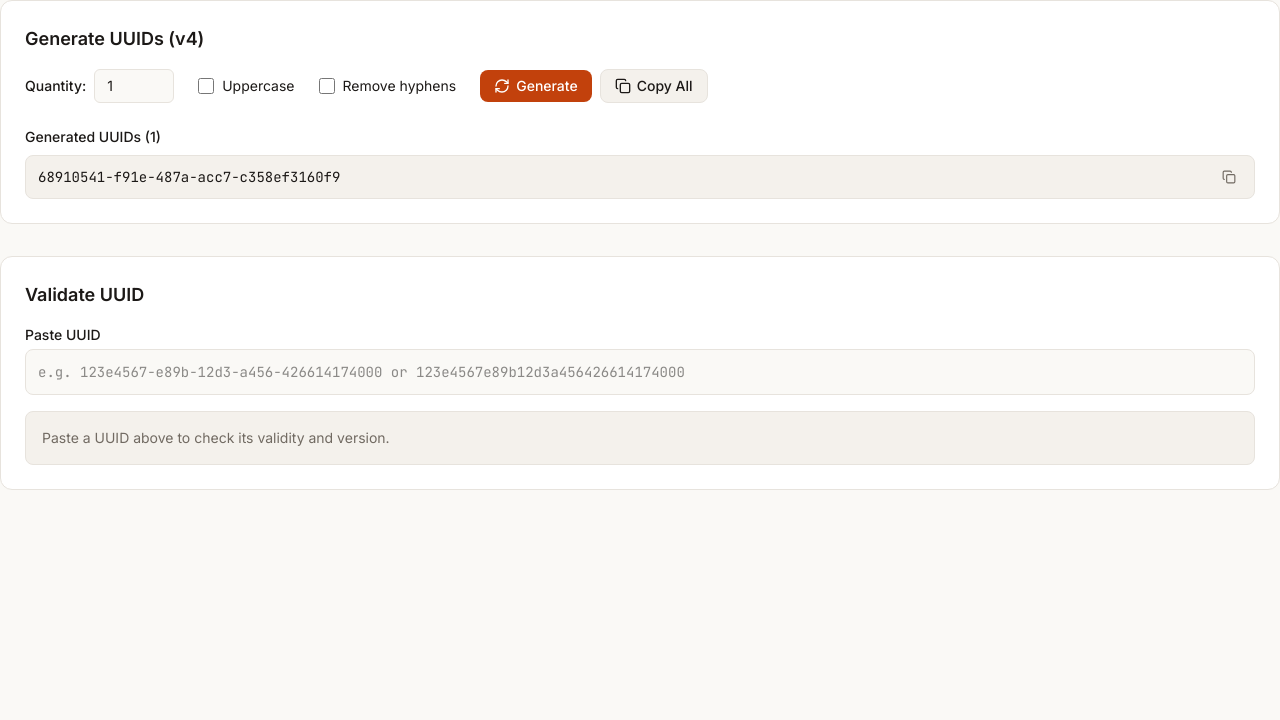
UuidGenerator Component › renders and generates UUIDs matching v4 pattern and requested count
Clear the number field labelled "Quantity:" at (134, 86), box [94,69,174,103]
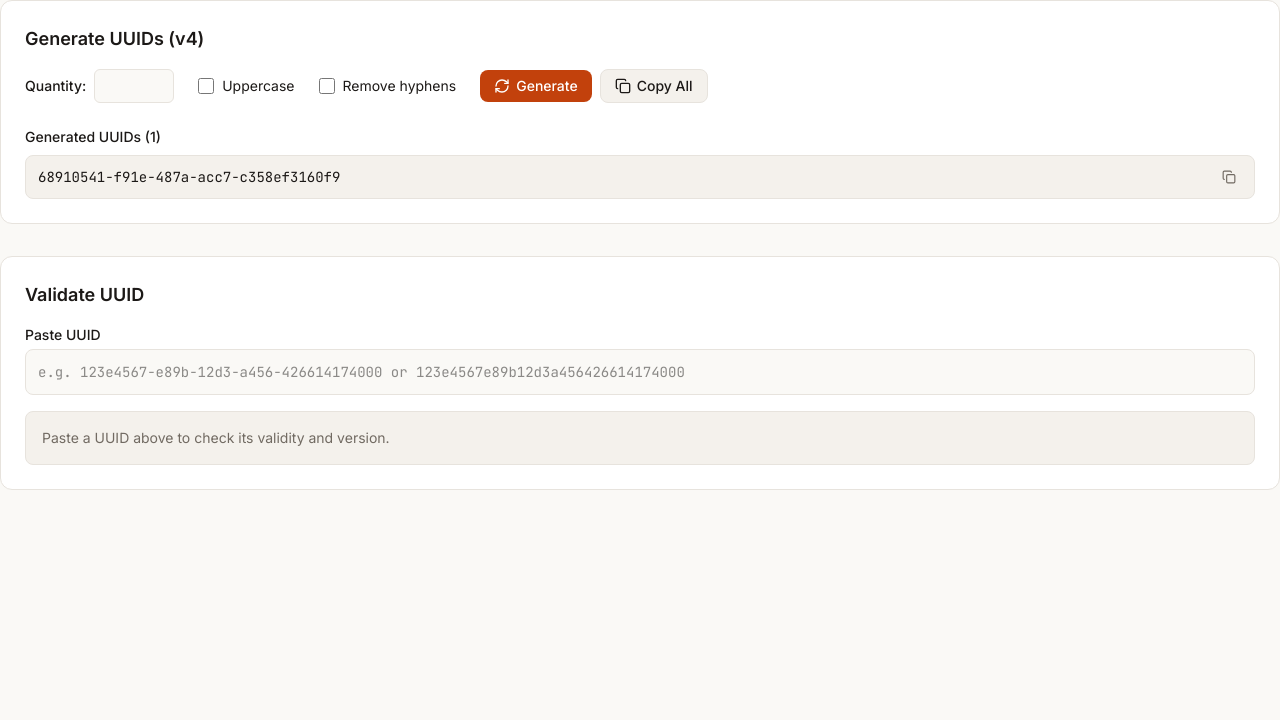
Type "5" into the number field labelled "Quantity:" at (134, 86), box [94,69,174,103]
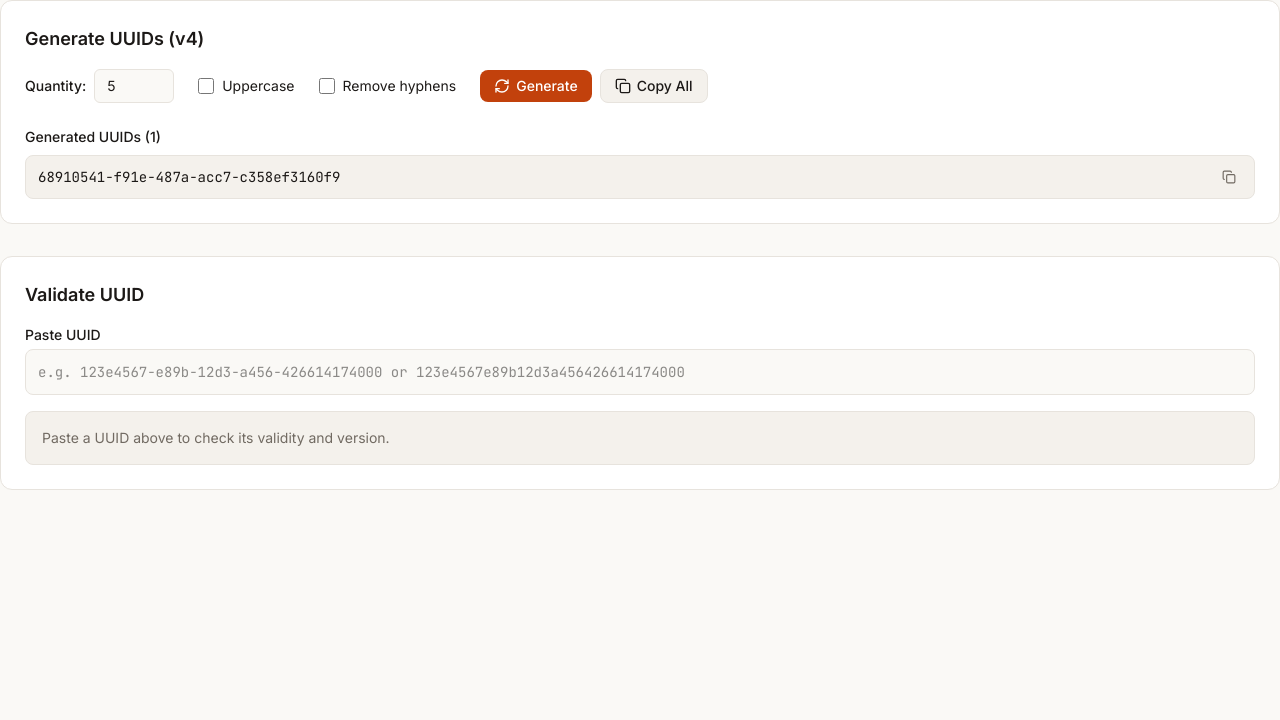
Click the button "Generate" at (536, 86), box [480,70,592,102]
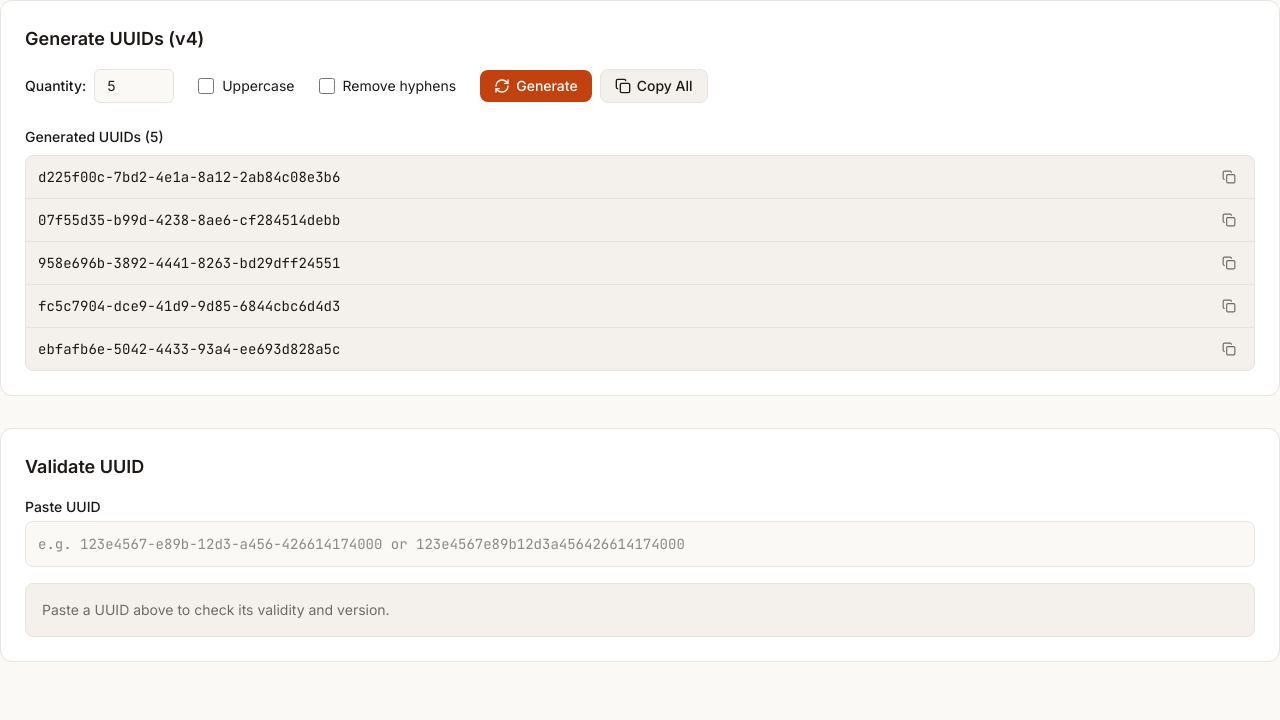
Now the text "Generated UUIDs (5)" is shown, box [25,128,164,145]
Now the number of buttons named "Copy UUID 1" is 5, box [1216,164,1242,190]; [1216,207,1242,233]; [1216,250,1242,276]; [1216,293,1242,319]; [1216,336,1242,362]
